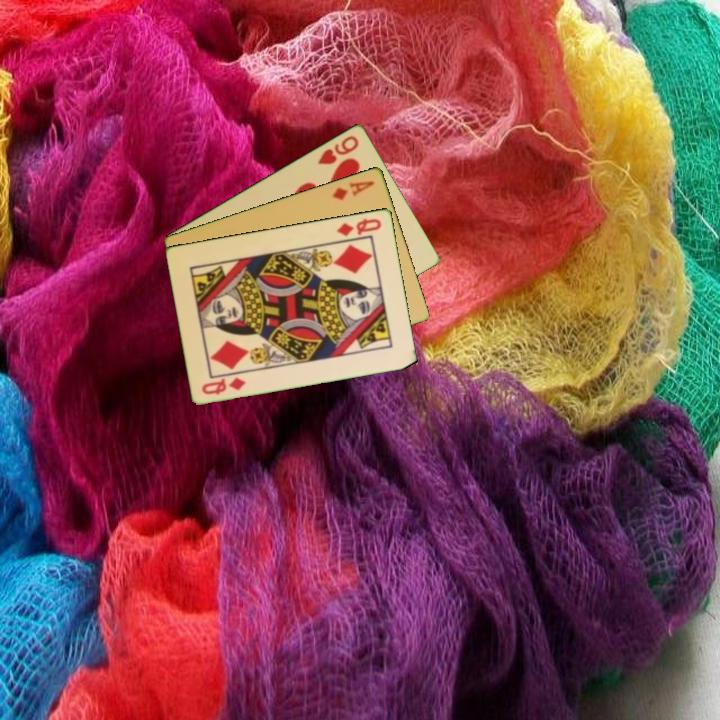9h: (314, 131, 362, 167)
Ad: (329, 177, 378, 203)
Qd: (334, 214, 385, 239), (198, 373, 249, 398)
